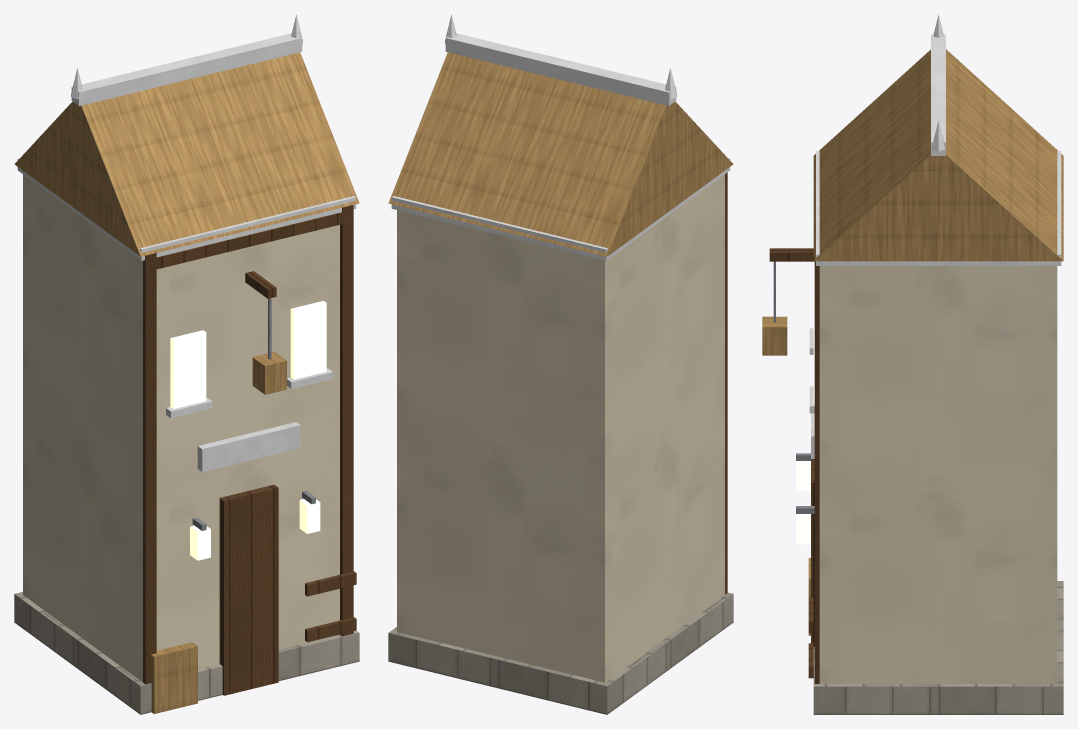
Rendered from category.staking.t6.glb.
3 renders of one model, left to right at view 1: azimuth 30°, elevation 25°; view 2: azimuth 150°, elevation 25°; view 3: azimuth 270°, elevation 25°, orthographic.
Parts seen in each view (by area): view 1: building.category.staking.t6; view 2: building.category.staking.t6; view 3: building.category.staking.t6.
Part boxes in pixels (box(x1,y1,x2,y2)): building.category.staking.t6: box(14, 14, 359, 714); building.category.staking.t6: box(388, 14, 733, 714); building.category.staking.t6: box(762, 14, 1063, 714).
Bounding box in the file's own units: 2.12 × 5.25 × 2.41.
8 materials, 7 textured.
